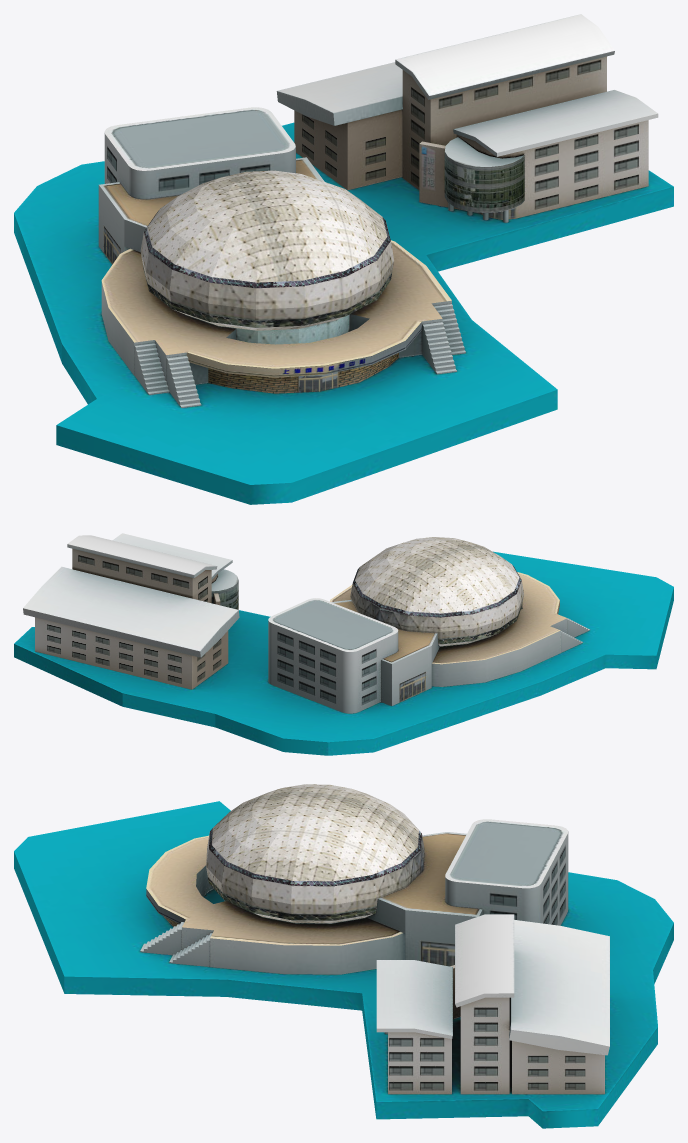
Rendered from gjtczx.gltf.
3 views of the same model, one above another, from view 1: azimuth 30°, elevation 25°; view 2: azimuth 150°, elevation 25°; view 3: azimuth 270°, elevation 25° (orthographic). The views are drawn at different scales.
Parts seen in each view (by area): view 1: polySurface10; view 2: polySurface10; view 3: polySurface10.
Part boxes in pixels (x1,y1,x2,y2): polySurface10: (14, 14, 673, 504); polySurface10: (14, 533, 673, 755); polySurface10: (14, 784, 673, 1128).
Bounding box in the file's own units: 19.22 × 3.81 × 17.29.
1 material, 1 textured.
